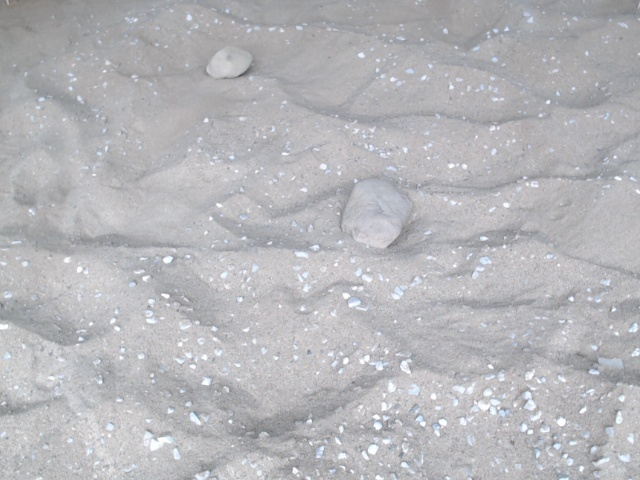rock: (336, 173, 417, 254), (201, 42, 258, 84)
